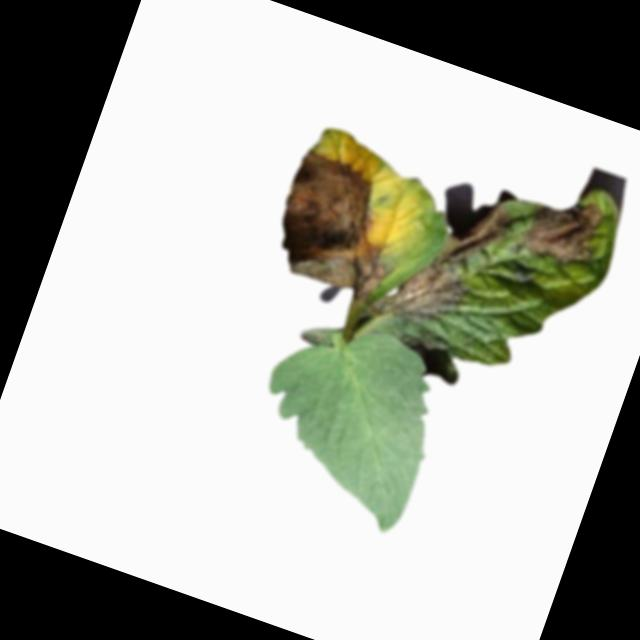Late_blight: (259, 144, 424, 315), (362, 170, 517, 347), (514, 182, 610, 275)
healthy: (232, 301, 460, 539)
